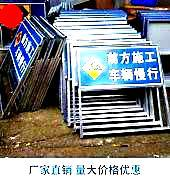sign: (78, 48, 163, 88), (9, 28, 35, 79)
